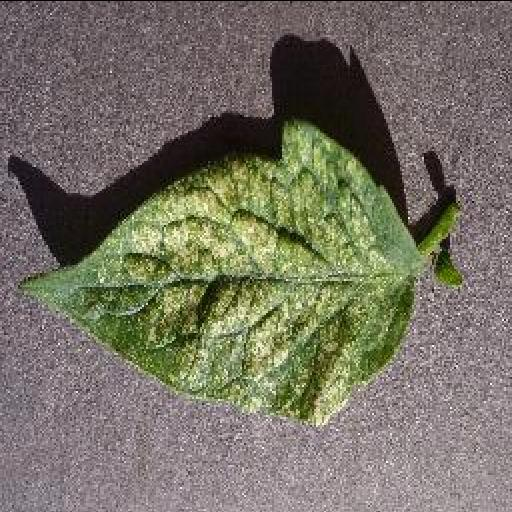disease_tomato: (14, 118, 418, 420)
